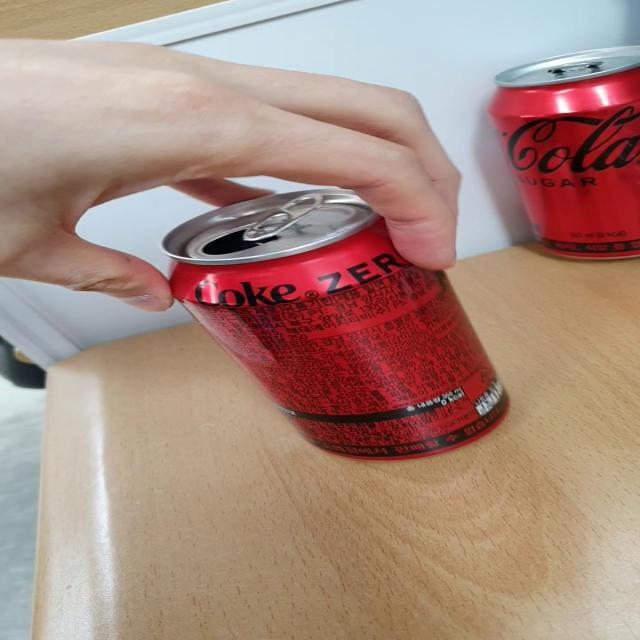coca-cola: (144, 178, 532, 472), (472, 38, 640, 272)
